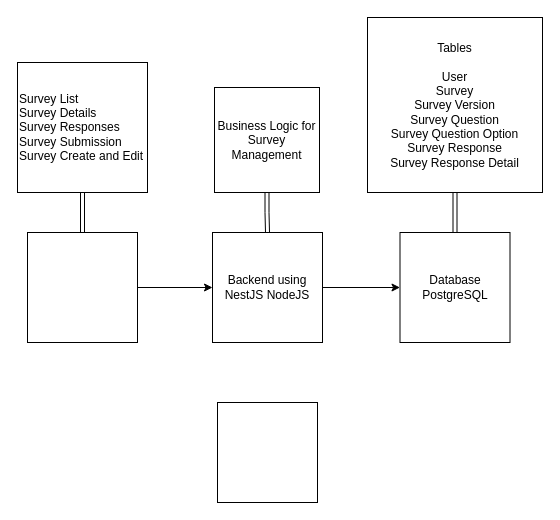
Some shapes in this 560 by 520 pixel diagram are drawn without their labels. The centre of each missing label's shape, as x and y in pixels:
CI/CD with Github Actions , Docker and Railway: the point at 267,452
Frontend using React: the point at 82,287
